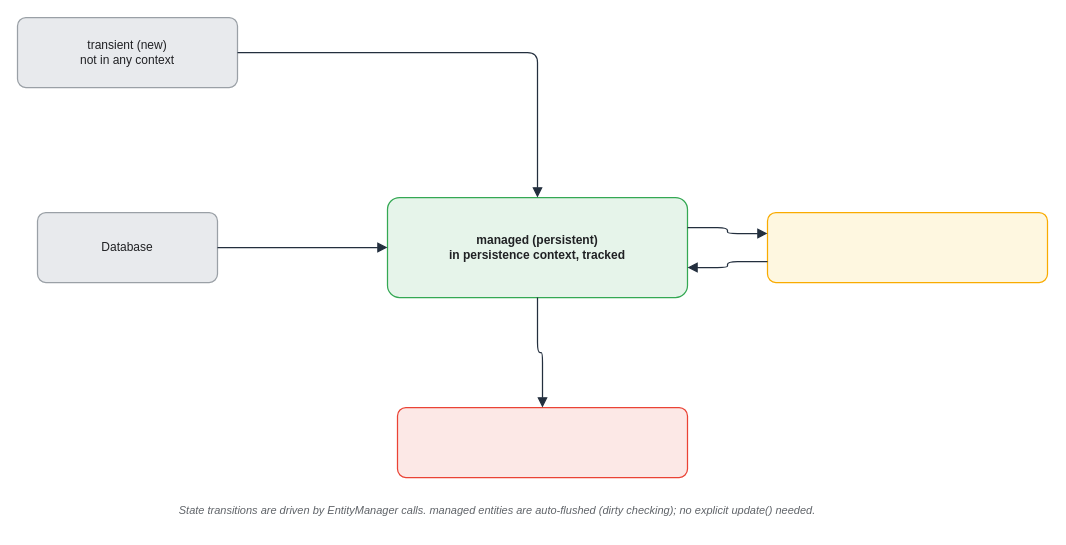
Some shapes in this 1066 by 545 pixel diagram are drawn without their labels. Each missing label, with the centre of its shape:
detached has id, no longer in context: the point at 907,247
removed scheduled for DELETE at flush: the point at 542,442
